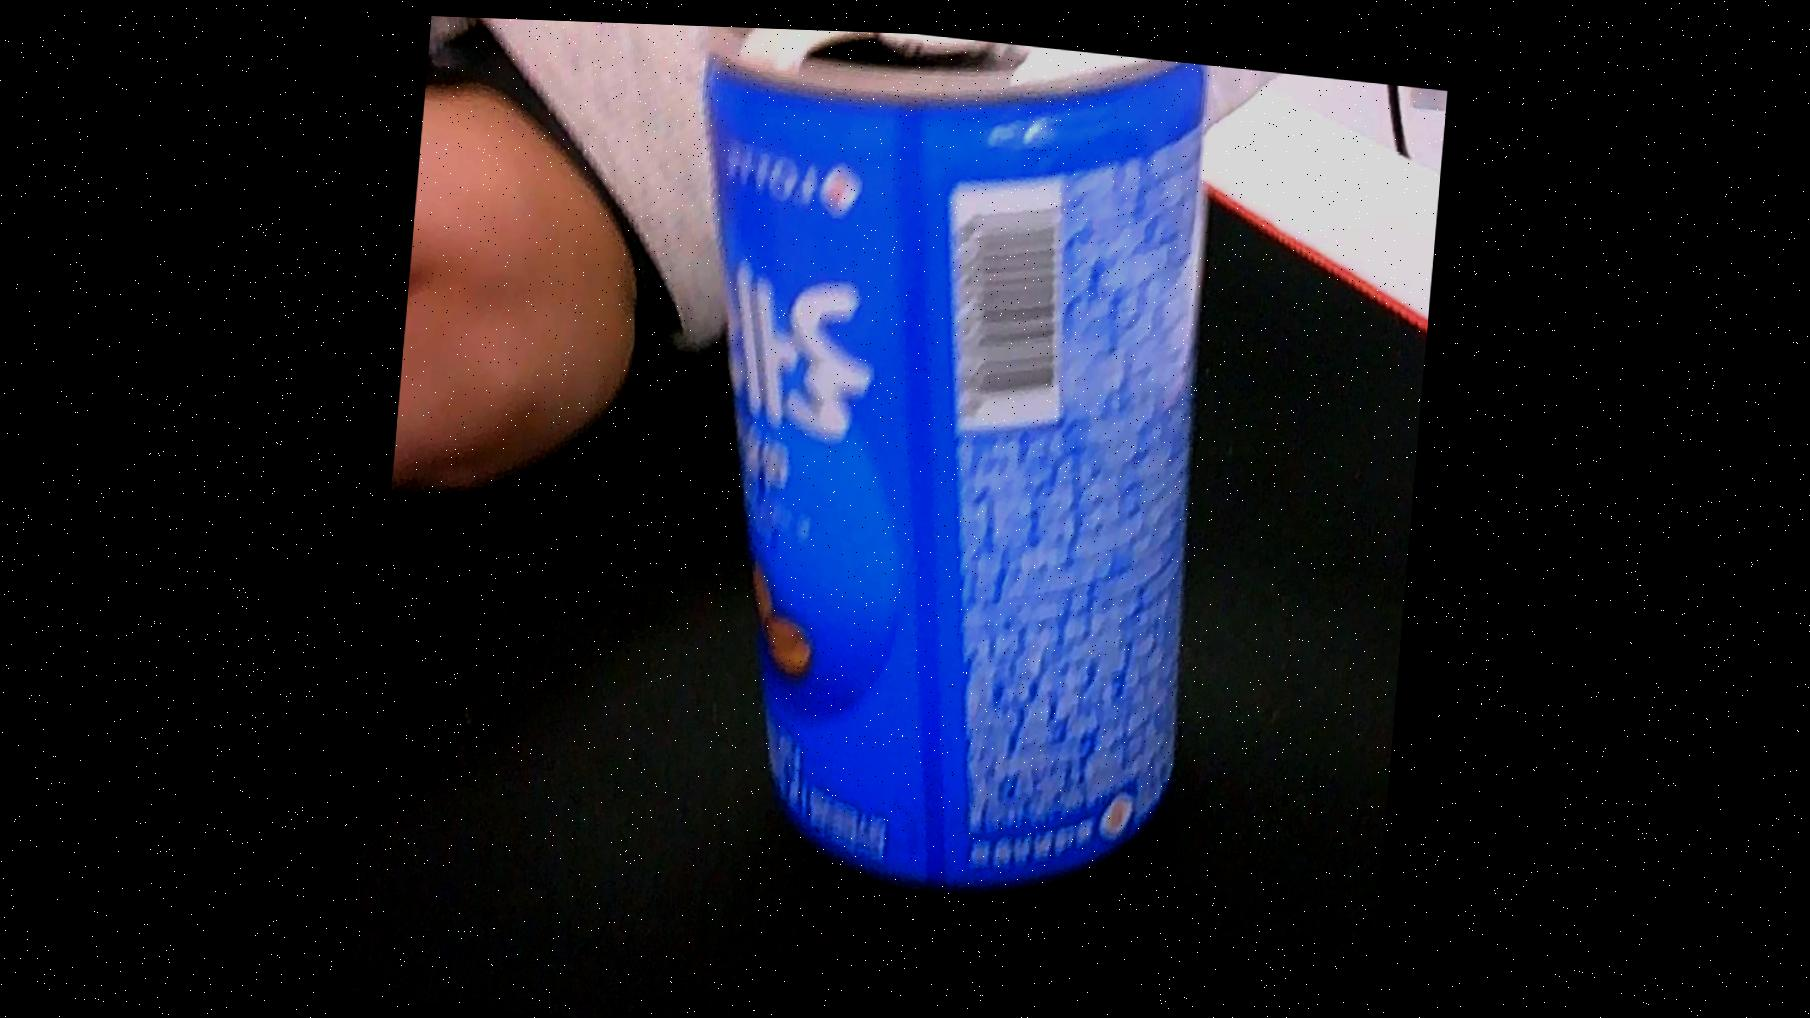letsbe: (632, 19, 1234, 909)
